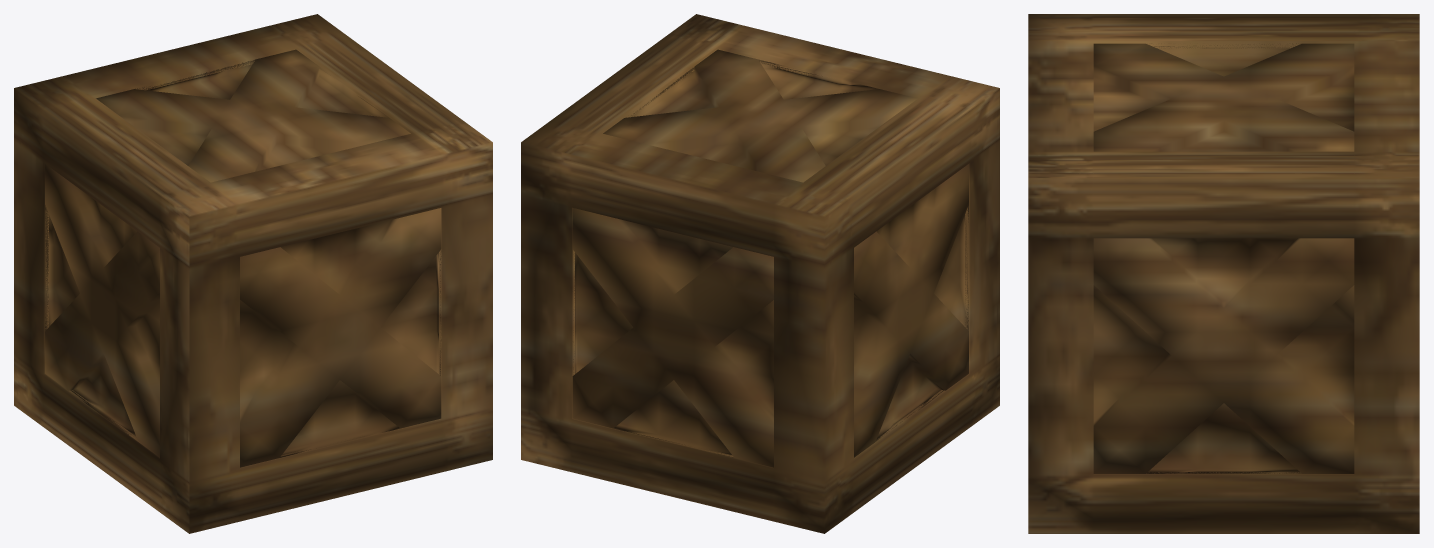
The model's file is Crate3.glb.
The picture shows the model from 3 angles, left to right: view 1: azimuth 30°, elevation 25°; view 2: azimuth 150°, elevation 25°; view 3: azimuth 270°, elevation 25°; orthographic projection. The views are drawn at different scales.
Parts seen in each view (by area): view 1: Crate3; view 2: Crate3; view 3: Crate3.
Part boxes in pixels (<box>): Crate3: <box>14,14,492,533</box>; Crate3: <box>521,14,999,533</box>; Crate3: <box>1028,14,1419,533</box>.
Bounding box in the file's own units: 2 × 2 × 2.
1 material, 1 textured.
